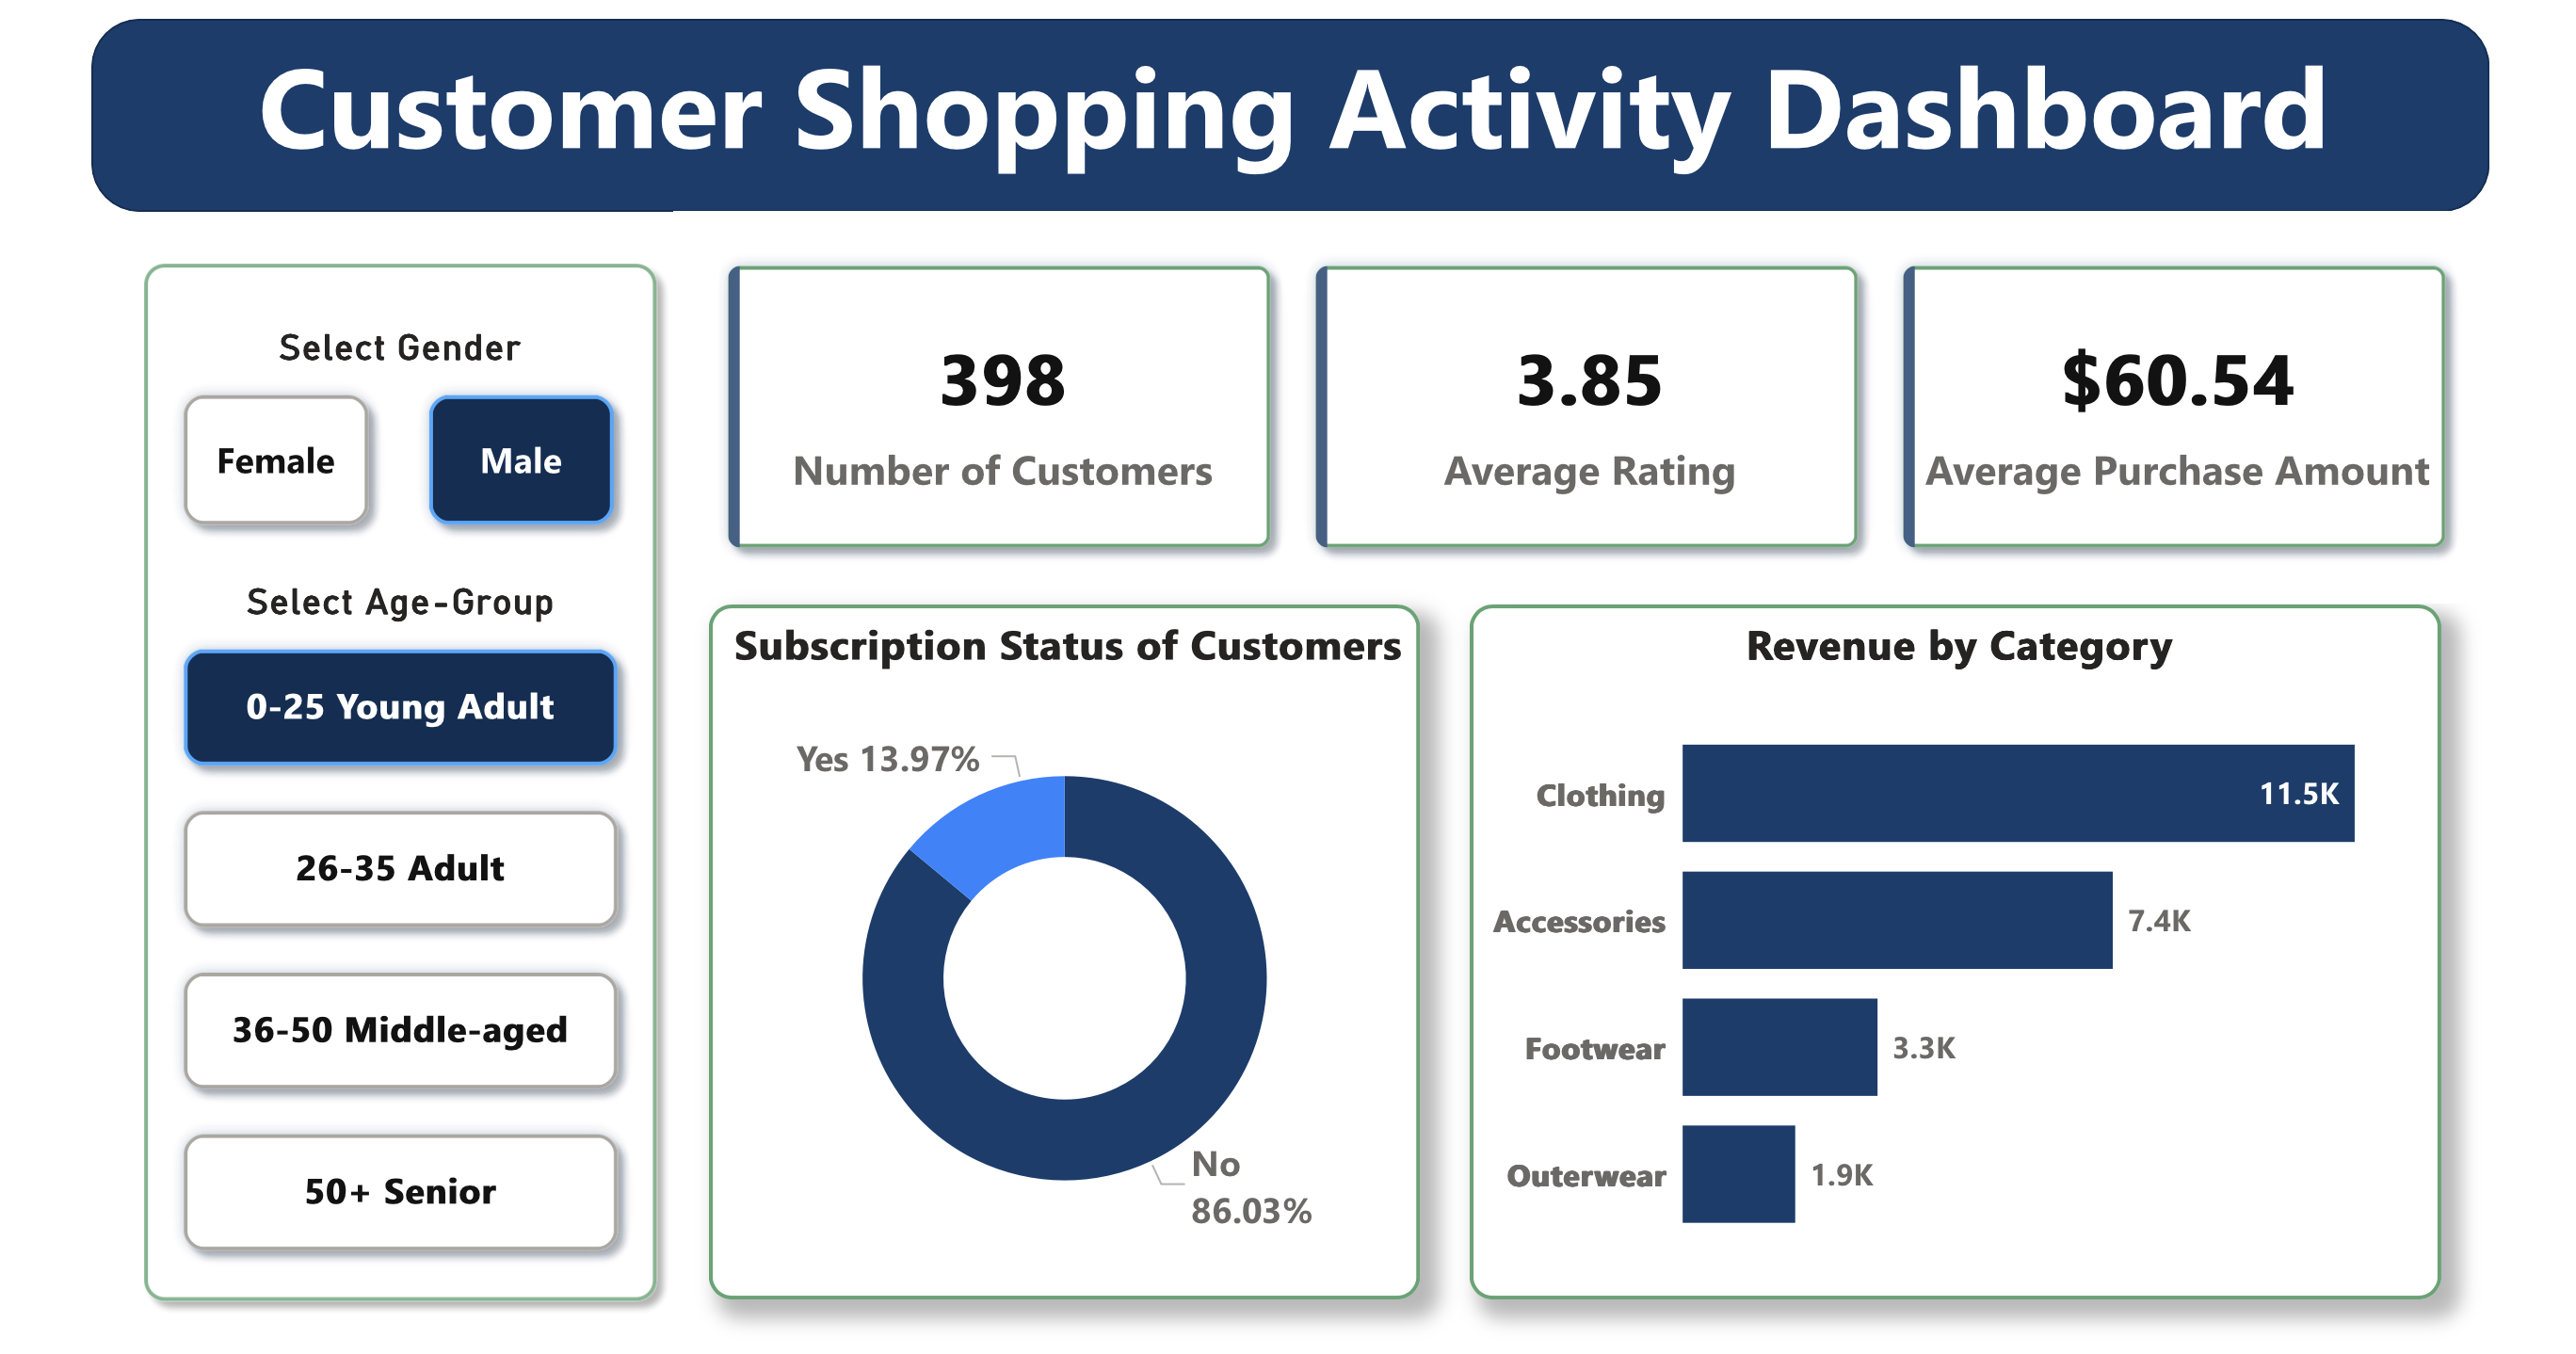

This screenshot's page, from the dashboard's own definition file:
{"tool":"powerbi","page":{"name":"Page 1","canvas":[1280,720],"ordinal":0},"visuals":[{"type":"shape","box":[10.1,10.1,1269.9,101.1],"z":0},{"type":"textbox","box":[28.9,10.1,1228,91],"z":1000},{"type":"clusteredBarChart","title":"Revenue by Category","fields":{"Category":["customer_cleaned_data.category"],"Y":["Sum(customer_cleaned_data.purchase_amount)"]},"box":[735.3,317.8,511.4,365.5],"z":2000},{"type":"cardVisual","fields":{"Data":["customer_cleaned_data.Number of Customers","customer_cleaned_data.Average Rating","customer_cleaned_data.Average Purchase Amount"]},"box":[316.4,111.2,963.6,206.6],"z":3000},{"type":"donutChart","title":"Subscription Status of Customers","fields":{"Category":["customer_cleaned_data.subscription_status"],"Y":["Sum(customer_cleaned_data.customer_id)"]},"box":[335.2,317.8,374.2,365.5],"z":4000},{"type":"shape","box":[28.9,130,287.5,563.4],"z":5000},{"type":"advancedSlicerVisual","title":"Select Age-Group","fields":{"Values":["customer_cleaned_data.age_group"]},"box":[41.4,306.8,262,368.4],"z":6000},{"type":"advancedSlicerVisual","title":"Gender","fields":{"Values":["customer_cleaned_data.gender"]},"box":[41.9,173.4,261.5,119.9],"z":6001}]}

Visuals, with their boxes on the page's 1280x720 design canvas (x1, y1, x2, y2). These are canvas units, not pixel positions in the 2576x1354 screenshot, which may show the page scaled, cropped or inside an application window:
shape: 10 10 1280 111
textbox: 29 10 1257 101
"Revenue by Category" clusteredBarChart: 735 318 1247 683
cardVisual - customer_cleaned_data.Number of Customers x customer_cleaned_data.Average Rating: 316 111 1280 318
"Subscription Status of Customers" donutChart: 335 318 709 683
shape: 29 130 316 693
"Select Age-Group" advancedSlicerVisual: 41 307 303 675
"Gender" advancedSlicerVisual: 42 173 303 293
